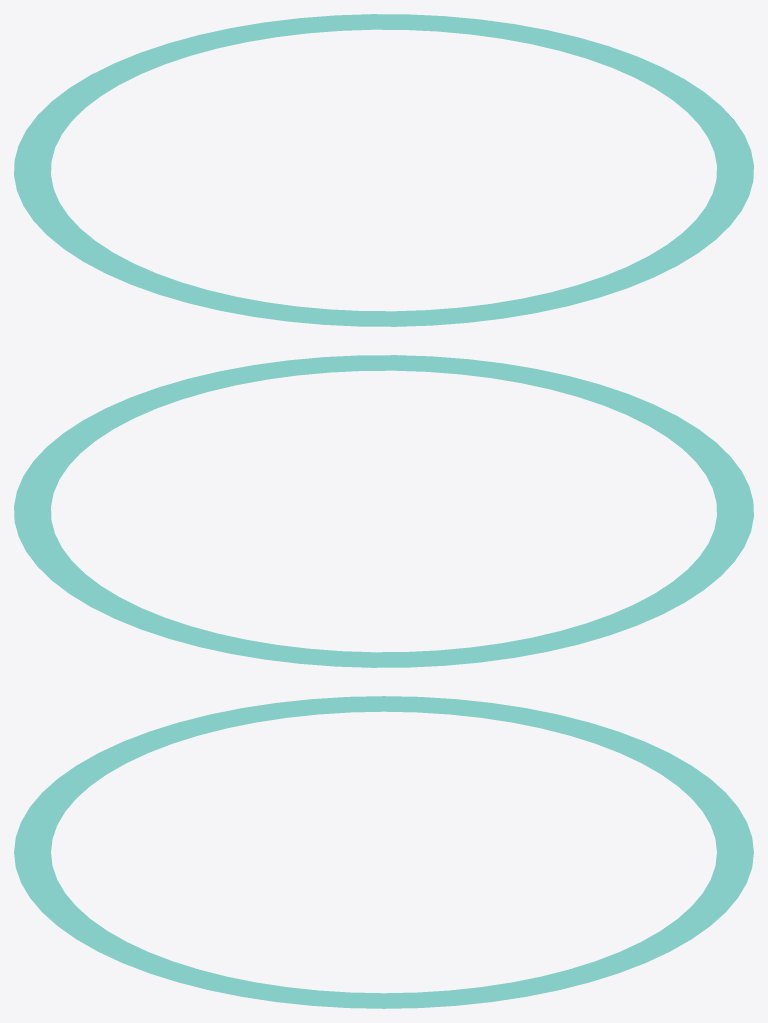
Rendered from playercir.fbx.
The picture shows the model from 3 angles, top to bottom: view 1: azimuth 30°, elevation 25°; view 2: azimuth 150°, elevation 25°; view 3: azimuth 270°, elevation 25°; orthographic projection.
Visible parts, largest first — view 1: playercircle; view 2: playercircle; view 3: playercircle.
Boxes of the visible parts, x1,y1,x2,y2 form: playercircle: (14, 14, 753, 326); playercircle: (14, 355, 753, 667); playercircle: (14, 696, 753, 1008).
Size of the model in its own units: 2 by 3.7e-07 by 2.
